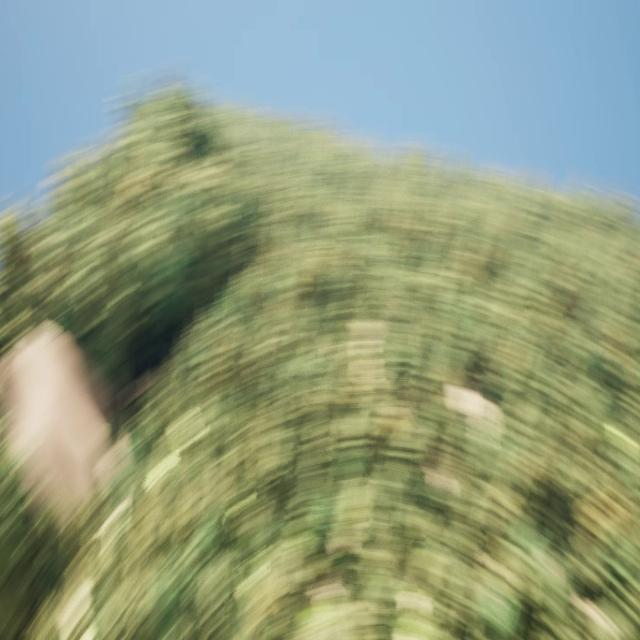smoke: (0, 318, 117, 529)
